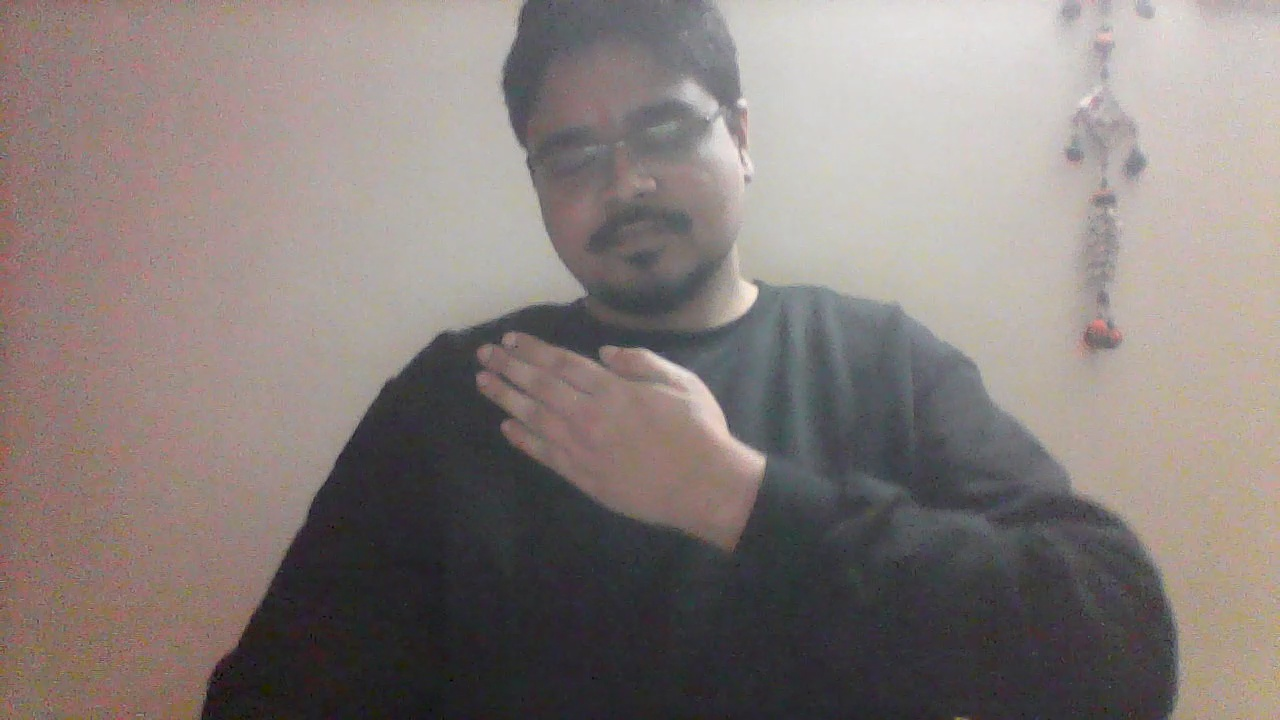Please: (473, 329, 736, 547)
